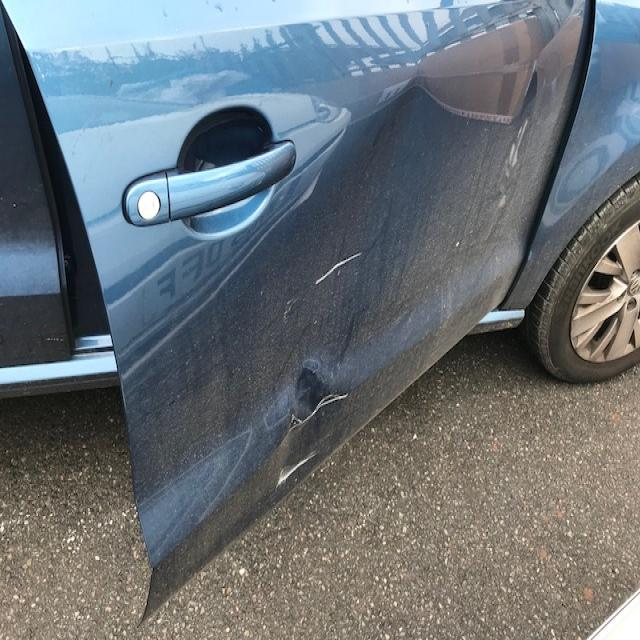dent: (154, 5, 569, 566)
scratch: (495, 117, 529, 209), (289, 388, 350, 431), (276, 448, 320, 491), (314, 251, 364, 286)
